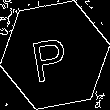P_N: (33, 27, 77, 83)
